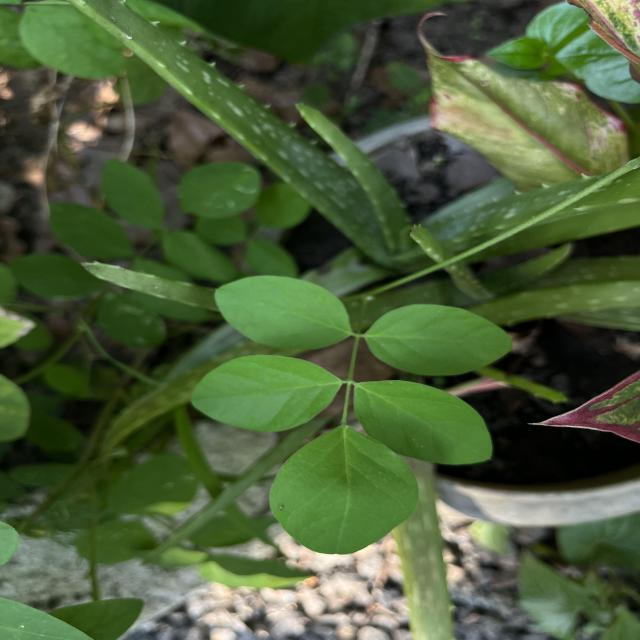Clitoria ternatea: (266, 424, 421, 557), (352, 378, 496, 468), (188, 354, 342, 434), (363, 302, 514, 378), (214, 274, 352, 352)
